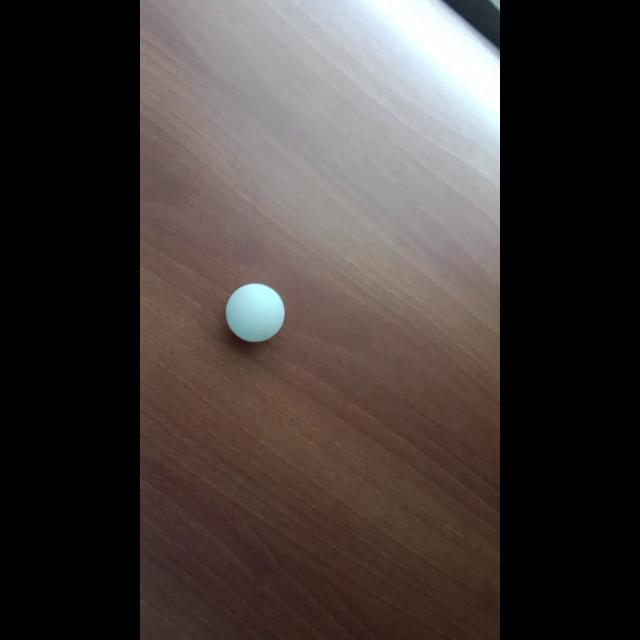white ball: (225, 282, 285, 342)
